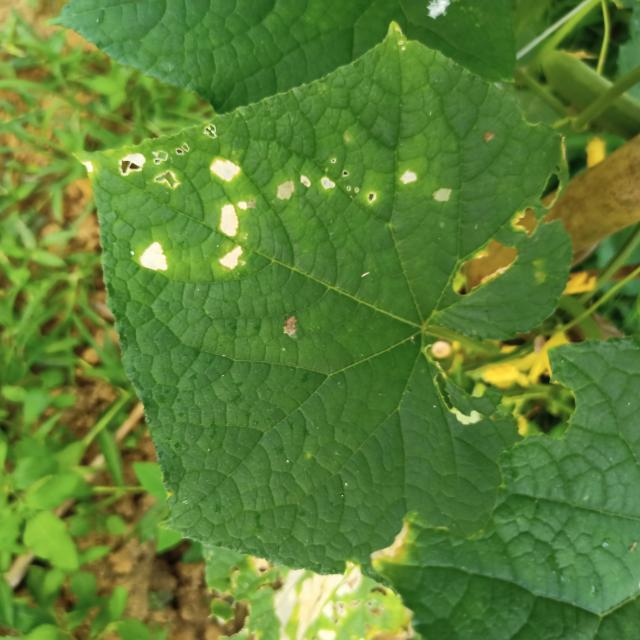disease_cucumber: (80, 124, 263, 295), (273, 120, 466, 236)
